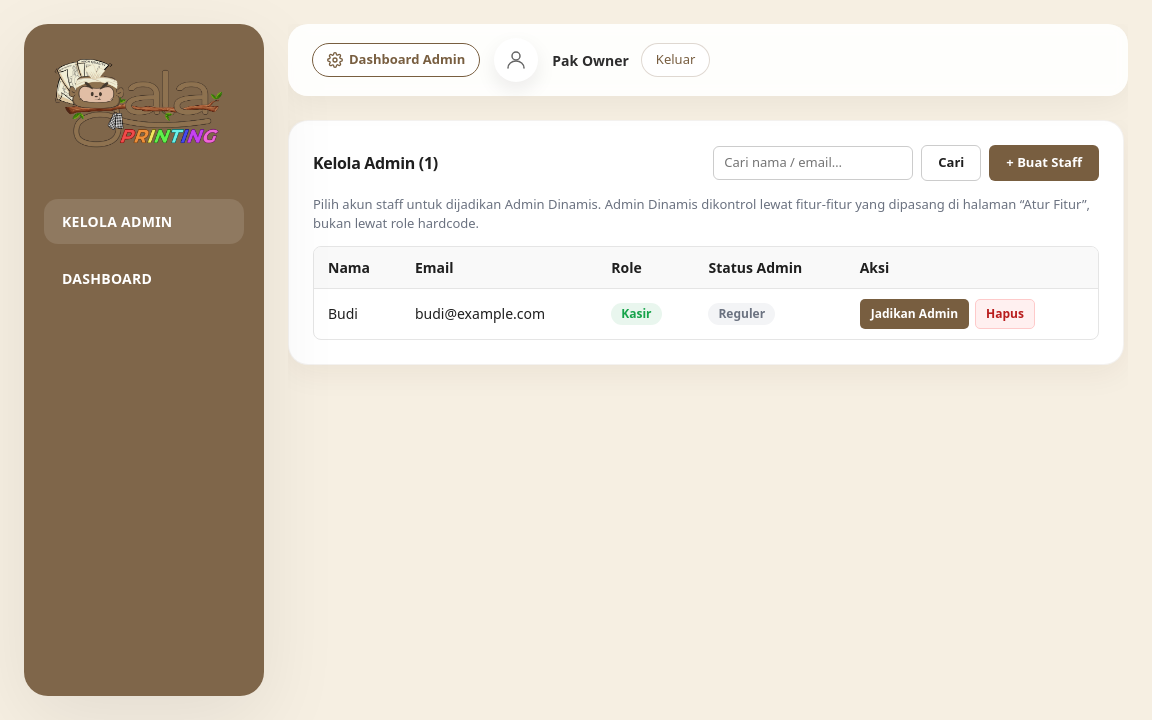
Test: Account list — search & promote › promotes an account then navigates to its permission page
The image size is (1152, 720).
Click the button with aria-label "Jadikan admin Budi".
click(914, 314)  # box [860, 298, 969, 328]
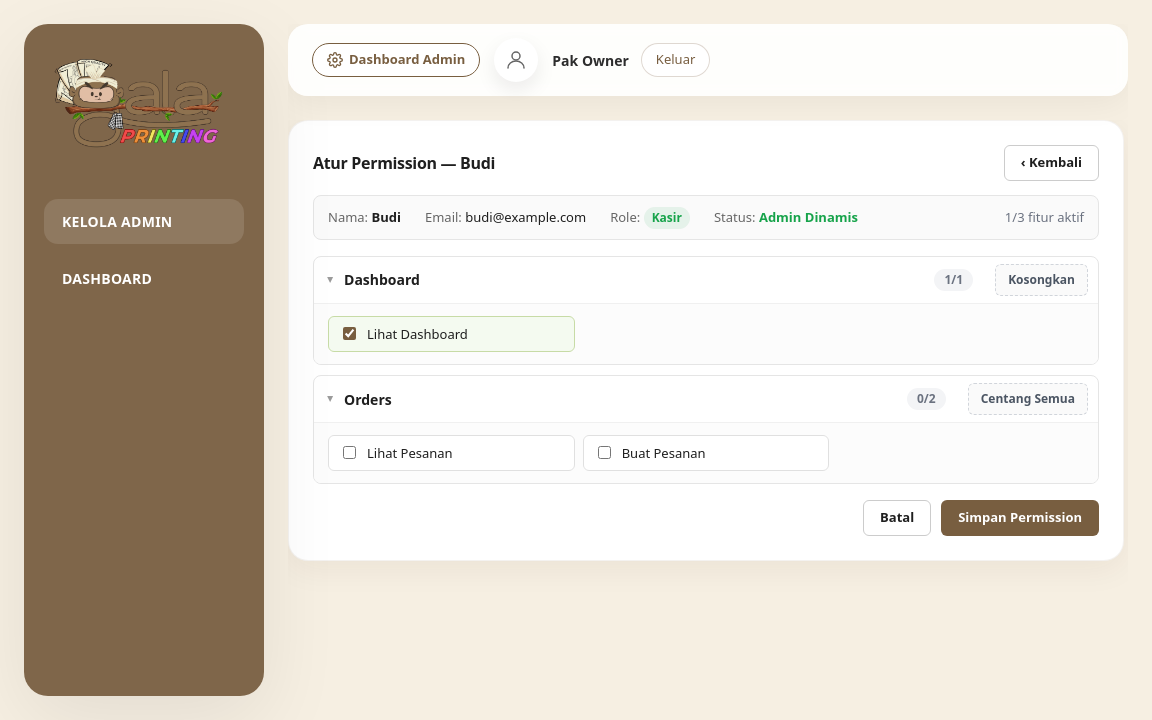
Now the checkbox labelled "Lihat Dashboard" is checked, box [343, 327, 356, 340]
Now the text "Budi" is shown, box [372, 208, 401, 226]
Now the checkbox labelled "Lihat Pesanan" is not checked, box [343, 446, 356, 459]
